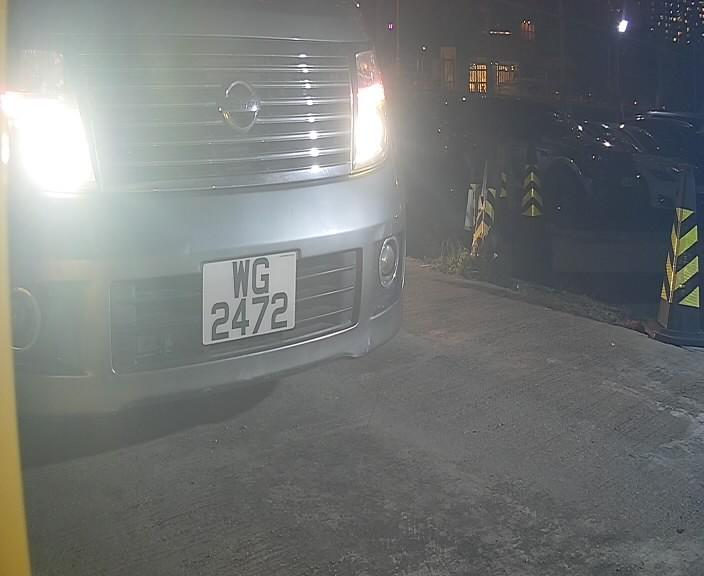privatecar: (7, 1, 428, 453)
